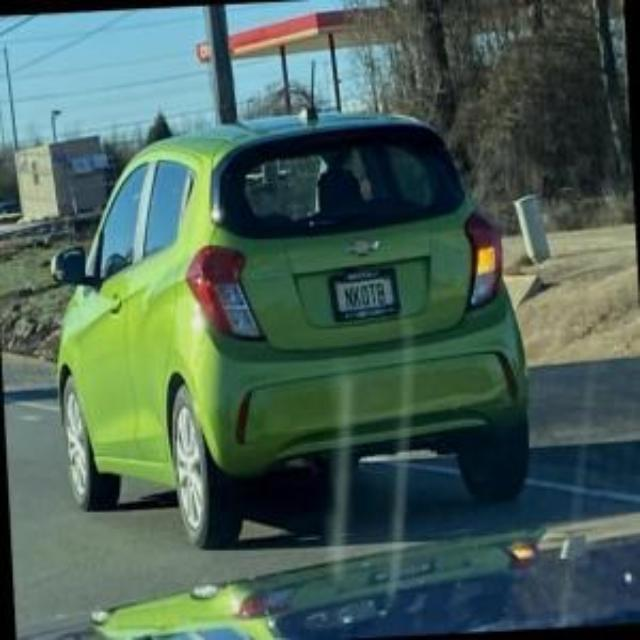License Plate: (327, 267, 402, 322)
